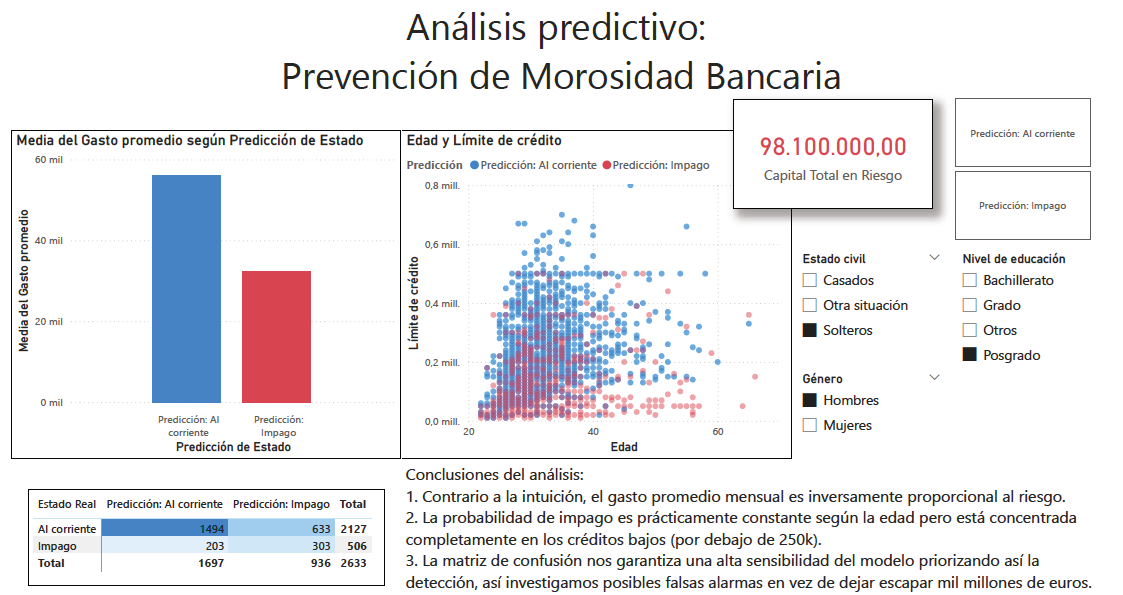

Layout of this report page (visuals, bound fields, positions):
{"tool":"powerbi","page":{"name":"Informe","canvas":[1280,720],"ordinal":0},"visuals":[{"type":"textbox","box":[454,538,826,182],"z":0},{"type":"slicer","fields":{"Values":["datos_para_powerbi.gender"]},"box":[909,432.8,185.2,92.6],"z":1000},{"type":"slicer","fields":{"Values":["datos_para_powerbi.education"]},"box":[1094.2,291,185.2,147.4],"z":2000},{"type":"slicer","fields":{"Values":["datos_para_powerbi.marriage"]},"box":[909,291,185.2,141.7],"z":3000},{"type":"textbox","box":[0,0,1280,156],"z":4000},{"type":"slicer","fields":{"Values":["datos_para_powerbi.leak_prediction"]},"box":[1072.3,112.6,207.9,177.6],"z":5000},{"type":"scatterChart","title":"Edad y Límite de crédito","fields":{"X":["datos_para_powerbi.age"],"Y":["datos_para_powerbi.limit_bal"],"Series":["datos_para_powerbi.leak_prediction"]},"box":[453.5,156.9,453.5,381.7],"z":6000},{"type":"clusteredColumnChart","title":"Media del Gasto promedio según Predicción de Estado","fields":{"Category":["datos_para_powerbi.leak_prediction"],"Y":["Avg(datos_para_powerbi.avg_bill)"]},"box":[0,156.9,453.5,381.7],"z":7000},{"type":"card","fields":{"Values":["Sum(datos_para_powerbi.limit_bal)"]},"box":[839.1,119.1,232.4,126.6],"z":8000},{"type":"pivotTable","fields":{"Rows":["datos_para_powerbi.payment"],"Columns":["datos_para_powerbi.leak_prediction"],"Values":["CountNonNull(datos_para_powerbi.payment)"]},"box":[19.4,573.2,414.5,111.7],"z":9000}]}

Visuals, with their boxes on the page's 1280x720 design canvas (x1, y1, x2, y2). These are canvas units, not pixel positions in the 1123x595 screenshot, which may show the page scaled, cropped or inside an application window:
textbox: 454:538:1280:720
slicer - datos_para_powerbi.gender: 909:433:1094:525
slicer - datos_para_powerbi.education: 1094:291:1279:438
slicer - datos_para_powerbi.marriage: 909:291:1094:433
textbox: 0:0:1280:156
slicer - datos_para_powerbi.leak_prediction: 1072:113:1280:290
"Edad y Límite de crédito" scatterChart: 454:157:907:539
"Media del Gasto promedio según Predicción de Estado" clusteredColumnChart: 0:157:454:539
card - Sum(datos_para_powerbi.limit_bal): 839:119:1072:246
pivotTable - datos_para_powerbi.payment x datos_para_powerbi.leak_prediction: 19:573:434:685
